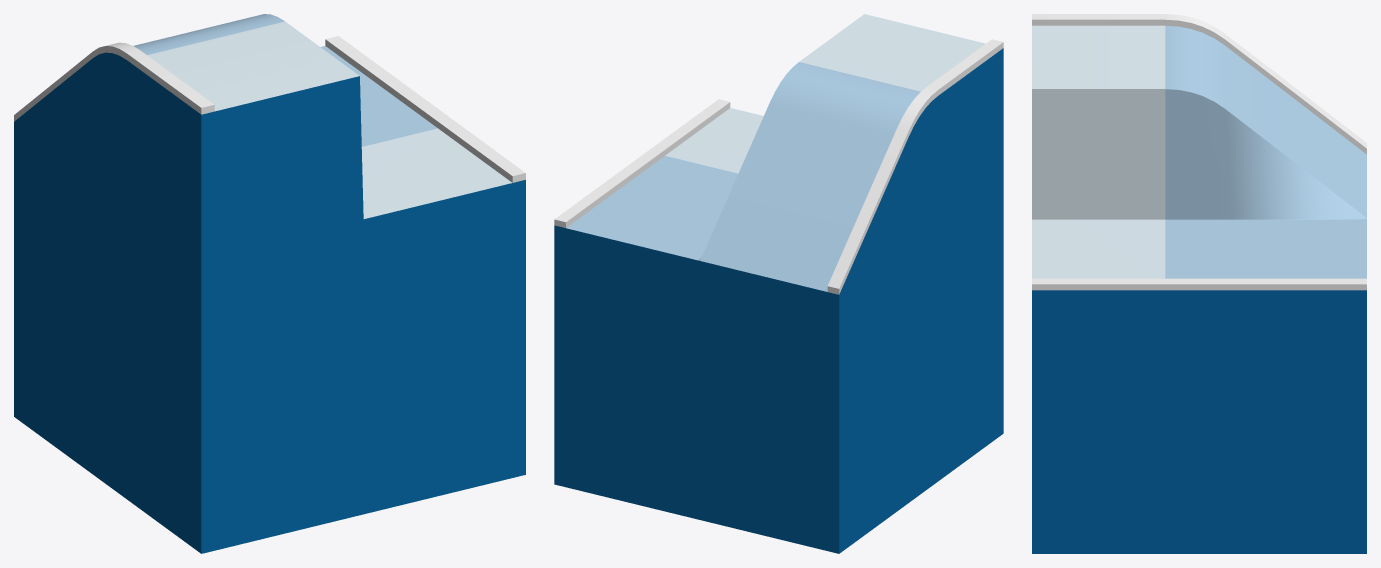
Rendered from W_Road_7.FBX.
3 renders of one model, left to right at view 1: azimuth 30°, elevation 25°; view 2: azimuth 150°, elevation 25°; view 3: azimuth 270°, elevation 25°, orthographic. The views are drawn at different scales.
Parts seen in each view (by area): view 1: Road_016; view 2: Road_016; view 3: Road_016.
Part boxes in pixels (<box>): Road_016: <box>14,14,525,553</box>; Road_016: <box>554,14,1003,553</box>; Road_016: <box>1032,14,1366,553</box>.
Bounding box in the file's own units: 503 × 661 × 503.
